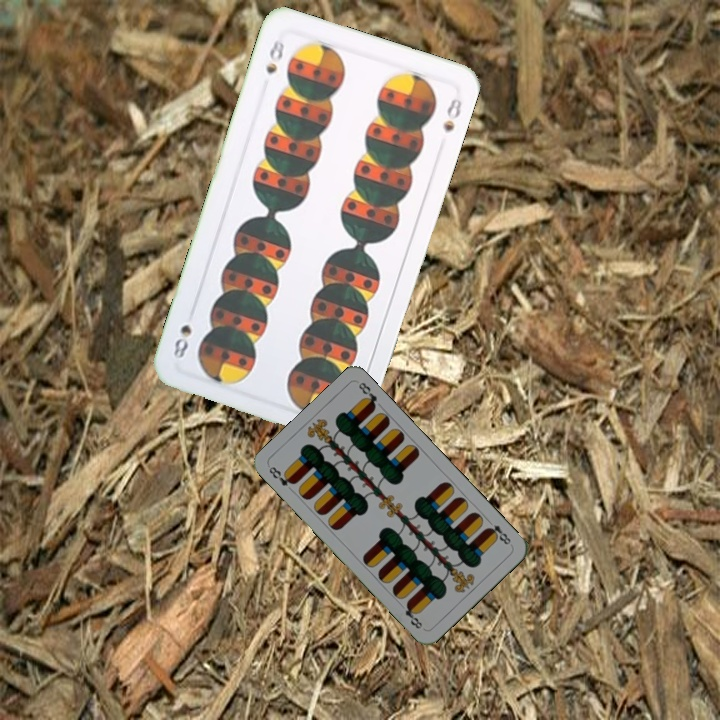E8: (482, 515, 513, 547), (265, 462, 298, 489)
S8: (261, 30, 287, 77)
